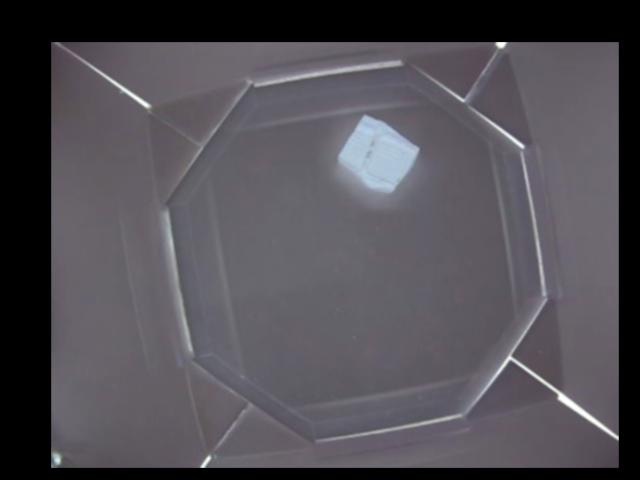China: (336, 115, 418, 190)
